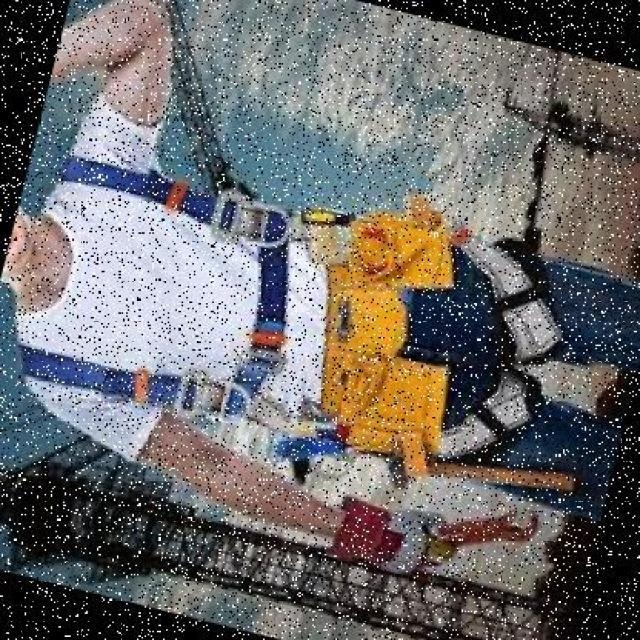Arnes_seguridad: (0, 101, 591, 541)
